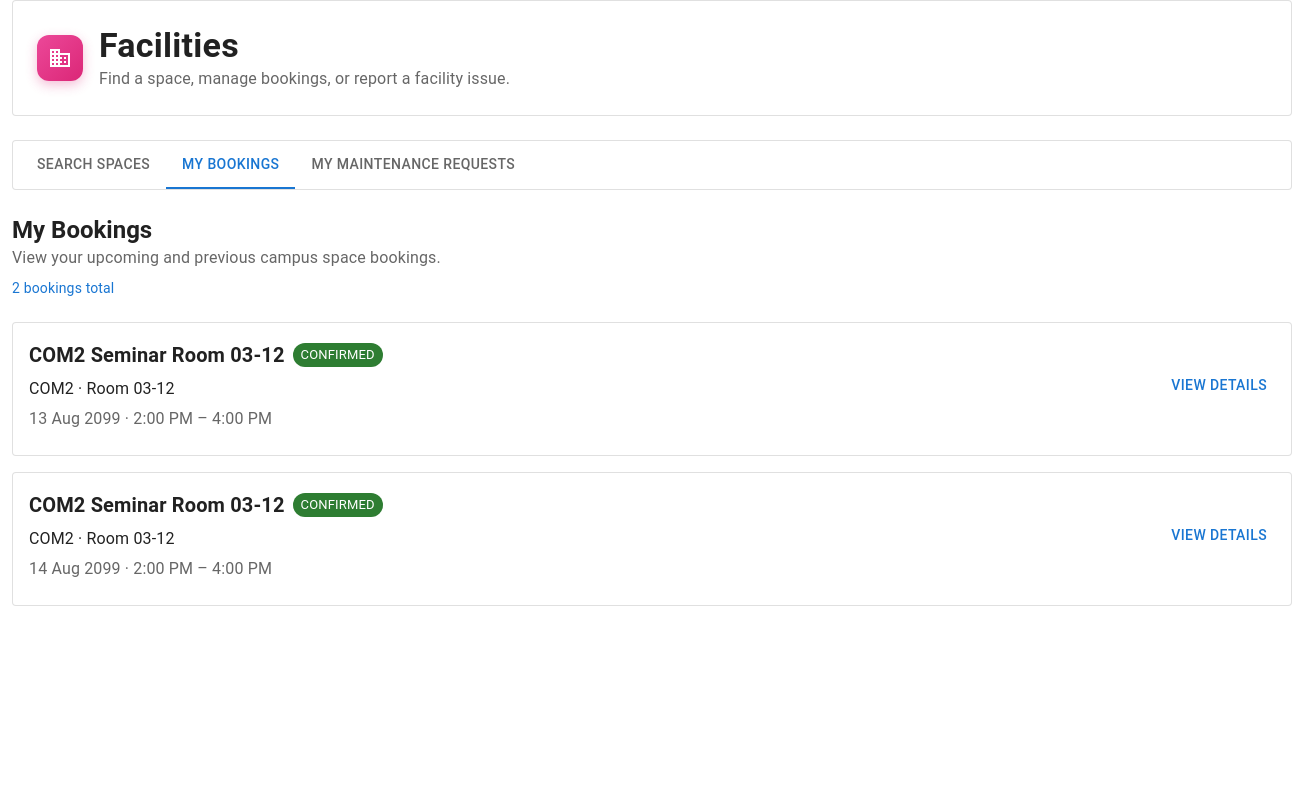
Facilities booking pages › renders upcoming bookings first and navigates to booking details
Expected: the number of headings "COM2 Seminar Room 03-12" is 2, x1=29 y1=339 x2=285 y2=371; x1=29 y1=489 x2=285 y2=521
Expected: the text "13 Aug 2099 · 2:00 PM – 4:00 PM" is shown, x1=29 y1=409 x2=272 y2=428
Click the 1st link "View details": (1219, 385) x1=1171 y1=377 x2=1267 y2=393
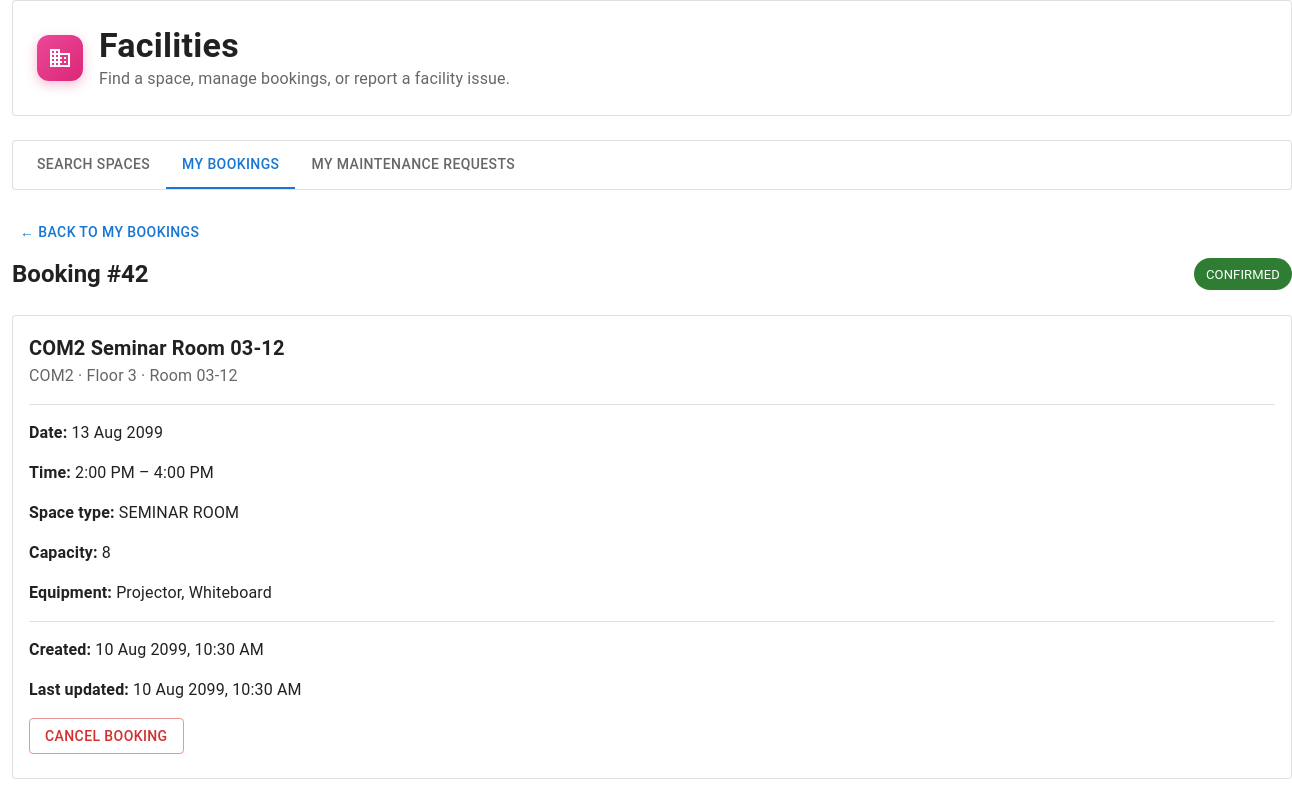
Expected: the heading "Booking #42" is shown, x1=12 y1=258 x2=149 y2=290
